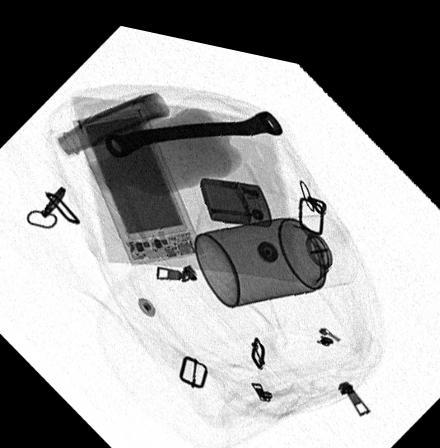Lighter: (198, 166, 272, 213)
Powerbank: (71, 99, 204, 259)
Sprayer: (191, 199, 357, 296)
